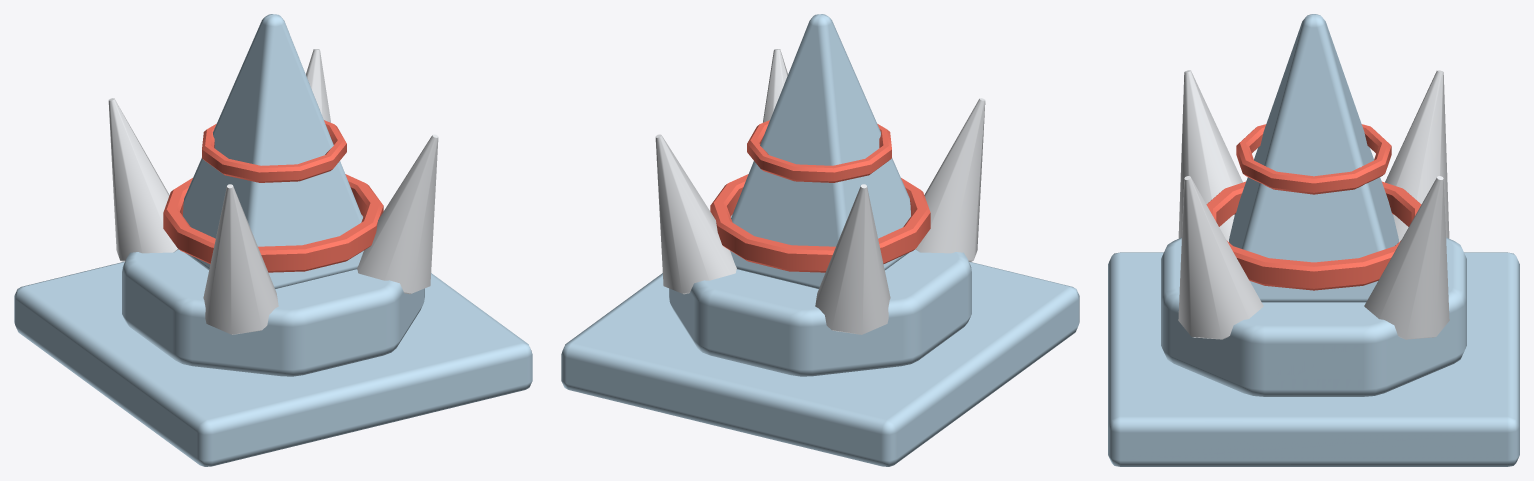
File: R4X_DamageBooster.glb
The picture shows the model from 3 angles, left to right: view 1: azimuth 30°, elevation 25°; view 2: azimuth 150°, elevation 25°; view 3: azimuth 270°, elevation 25°; orthographic projection. The views are drawn at different scales.
Parts seen in each view (by area): view 1: R4X_DamageBooster_Body; view 2: R4X_DamageBooster_Body; view 3: R4X_DamageBooster_Body.
Boxes of the visible parts, x1,y1,x2,y2 form: R4X_DamageBooster_Body: (14,14,532,466); R4X_DamageBooster_Body: (561,14,1079,466); R4X_DamageBooster_Body: (1108,14,1519,466).
Size of the model in its own units: 0.52 by 0.515 by 0.52.
